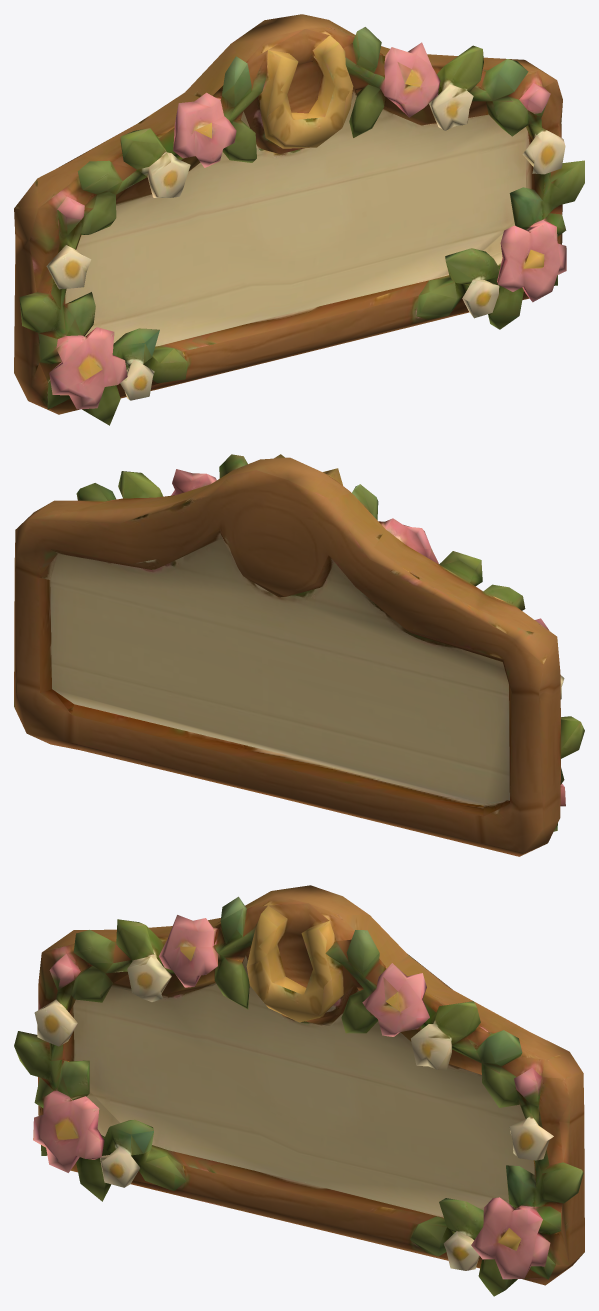
3 renders of one model, top to bottom at view 1: azimuth 30°, elevation 25°; view 2: azimuth 150°, elevation 25°; view 3: azimuth 330°, elevation 25°, orthographic.
Visible parts, largest first — view 1: plate-flower; view 2: plate-flower; view 3: plate-flower.
Part boxes in pixels (x1,y1,x2,y2): plate-flower: [14, 14, 584, 425]; plate-flower: [14, 454, 584, 856]; plate-flower: [14, 885, 584, 1296].
Size of the model in its own units: 1.19 by 0.6938 by 0.1508.
1 material, 1 textured.
